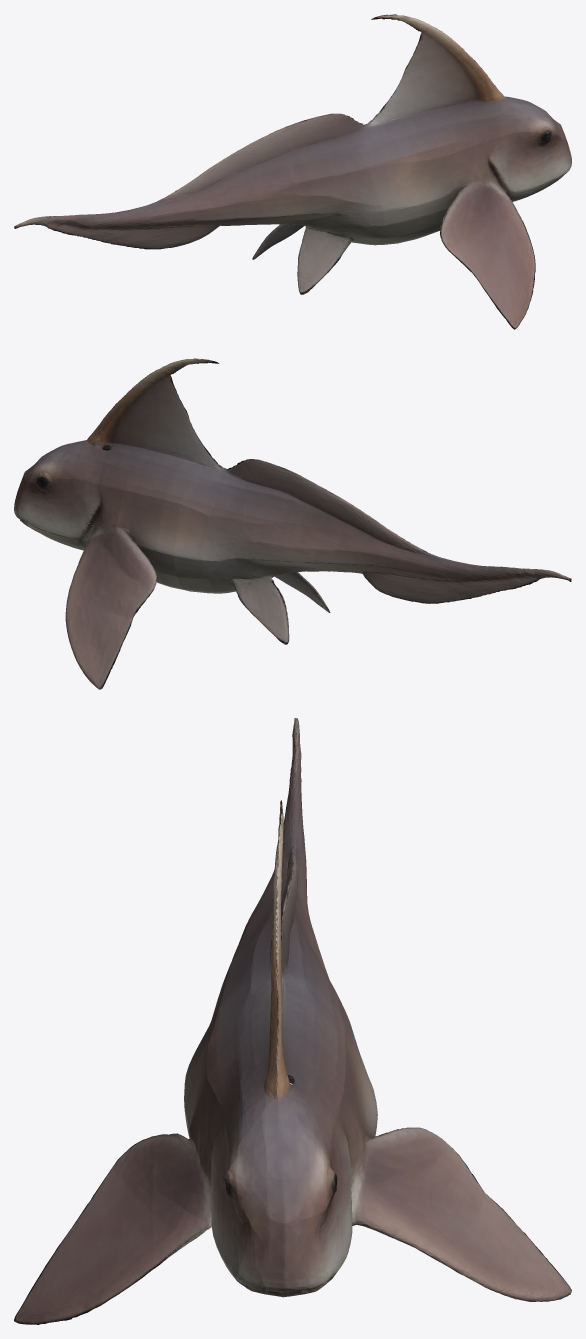
3 views of the same model, one above another, from view 1: azimuth 30°, elevation 25°; view 2: azimuth 150°, elevation 25°; view 3: azimuth 270°, elevation 25° (orthographic). The views are drawn at different scales.
Parts seen in each view (by area): view 1: world; view 2: world; view 3: world.
Part boxes in pixels (x1,y1,x2,y2): world: (14,14,571,329); world: (14,358,571,689); world: (14,718,571,1324).
Bounding box in the file's own units: 0.9994 × 0.4689 × 0.5079.
1 material, 1 textured.
